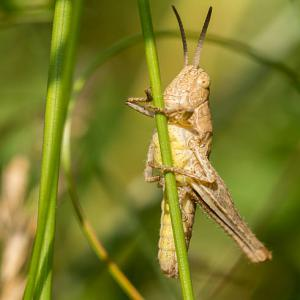locust: (122, 8, 276, 281)
